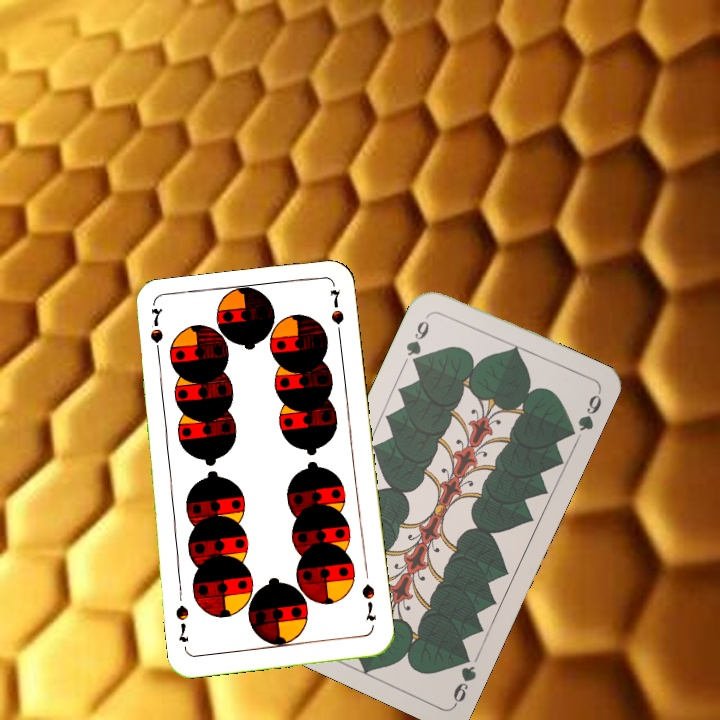G9: (401, 310, 434, 369), (449, 647, 479, 708)
S7: (146, 304, 165, 364), (358, 580, 379, 624)
